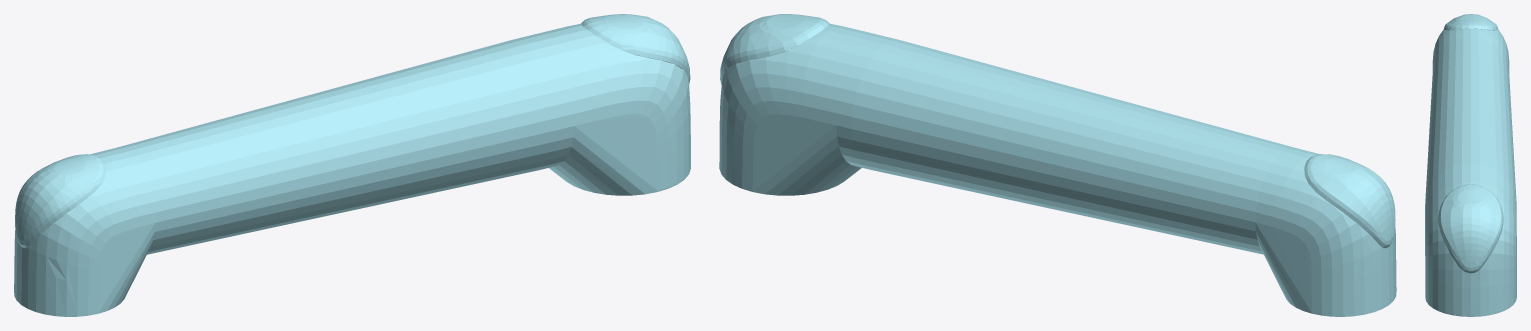
3 renders of one model, left to right at view 1: azimuth 30°, elevation 25°; view 2: azimuth 150°, elevation 25°; view 3: azimuth 270°, elevation 25°, orthographic. The views are drawn at different scales.
Parts seen in each view (by area): view 1: UR20Link2; view 2: UR20Link2; view 3: UR20Link2.
Part boxes in pixels (x1,y1,x2,y2): UR20Link2: (14, 14, 690, 316); UR20Link2: (719, 14, 1396, 316); UR20Link2: (1425, 14, 1516, 316).
Bounding box in the file's own units: 1.03 × 0.1803 × 0.2231.
